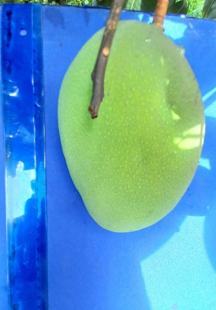Mango-sano: (58, 20, 204, 231)
